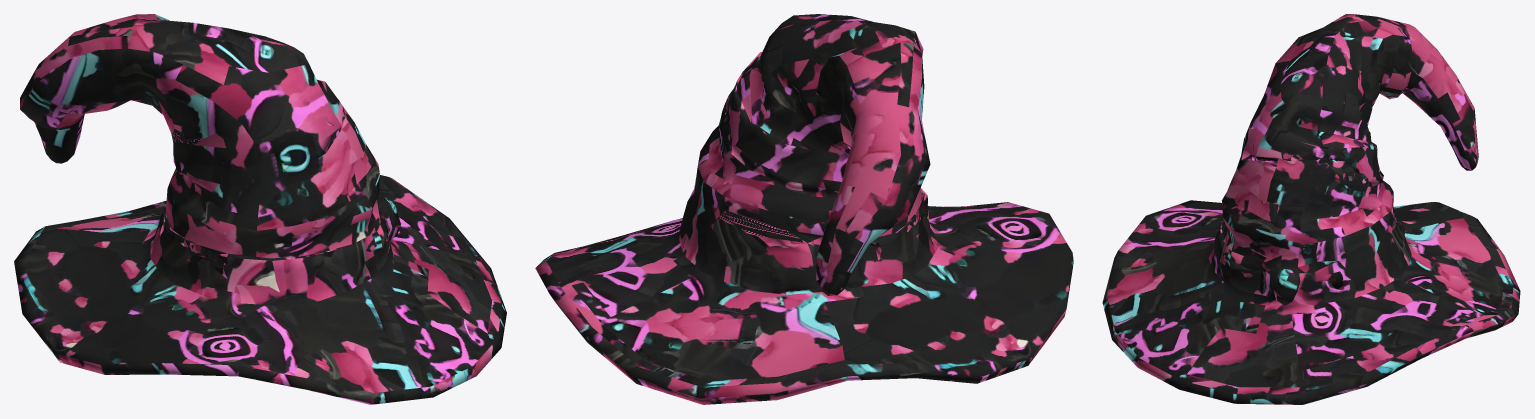
The model's file is WizardHat.fbx.
3 renders of one model, left to right at view 1: azimuth 30°, elevation 25°; view 2: azimuth 150°, elevation 25°; view 3: azimuth 270°, elevation 25°, orthographic. The views are drawn at different scales.
Parts seen in each view (by area): view 1: WizardHat; view 2: WizardHat; view 3: WizardHat.
Boxes of the visible parts, x1,y1,x2,y2 form: WizardHat: (14, 14, 506, 404); WizardHat: (535, 14, 1073, 404); WizardHat: (1102, 14, 1520, 404).
Bounding box in the file's own units: 99.14 × 70.1 × 98.59.
